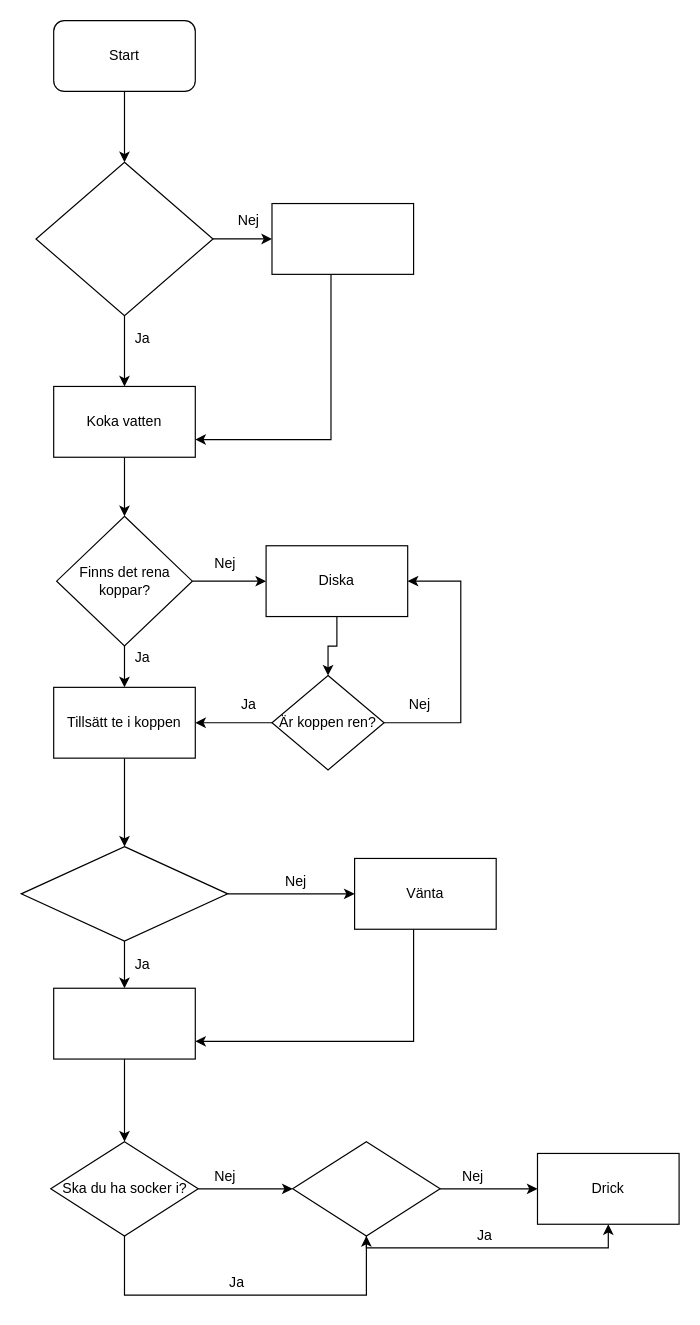
Some shapes in this 700 by 1325 pixel diagram are drawn without their labels. The centre of each missing label's shape, as x and y in pixels:
Dra och köp.: the point at 342,238
Finns te i hemmet?: the point at 124,238
Har vattnet nått kokpunkt?: the point at 124,893
Ska du ha mjölk i?: the point at 365,1188
Tillsätt kokande vatten i koppen och rör om teet.: the point at 124,1023
